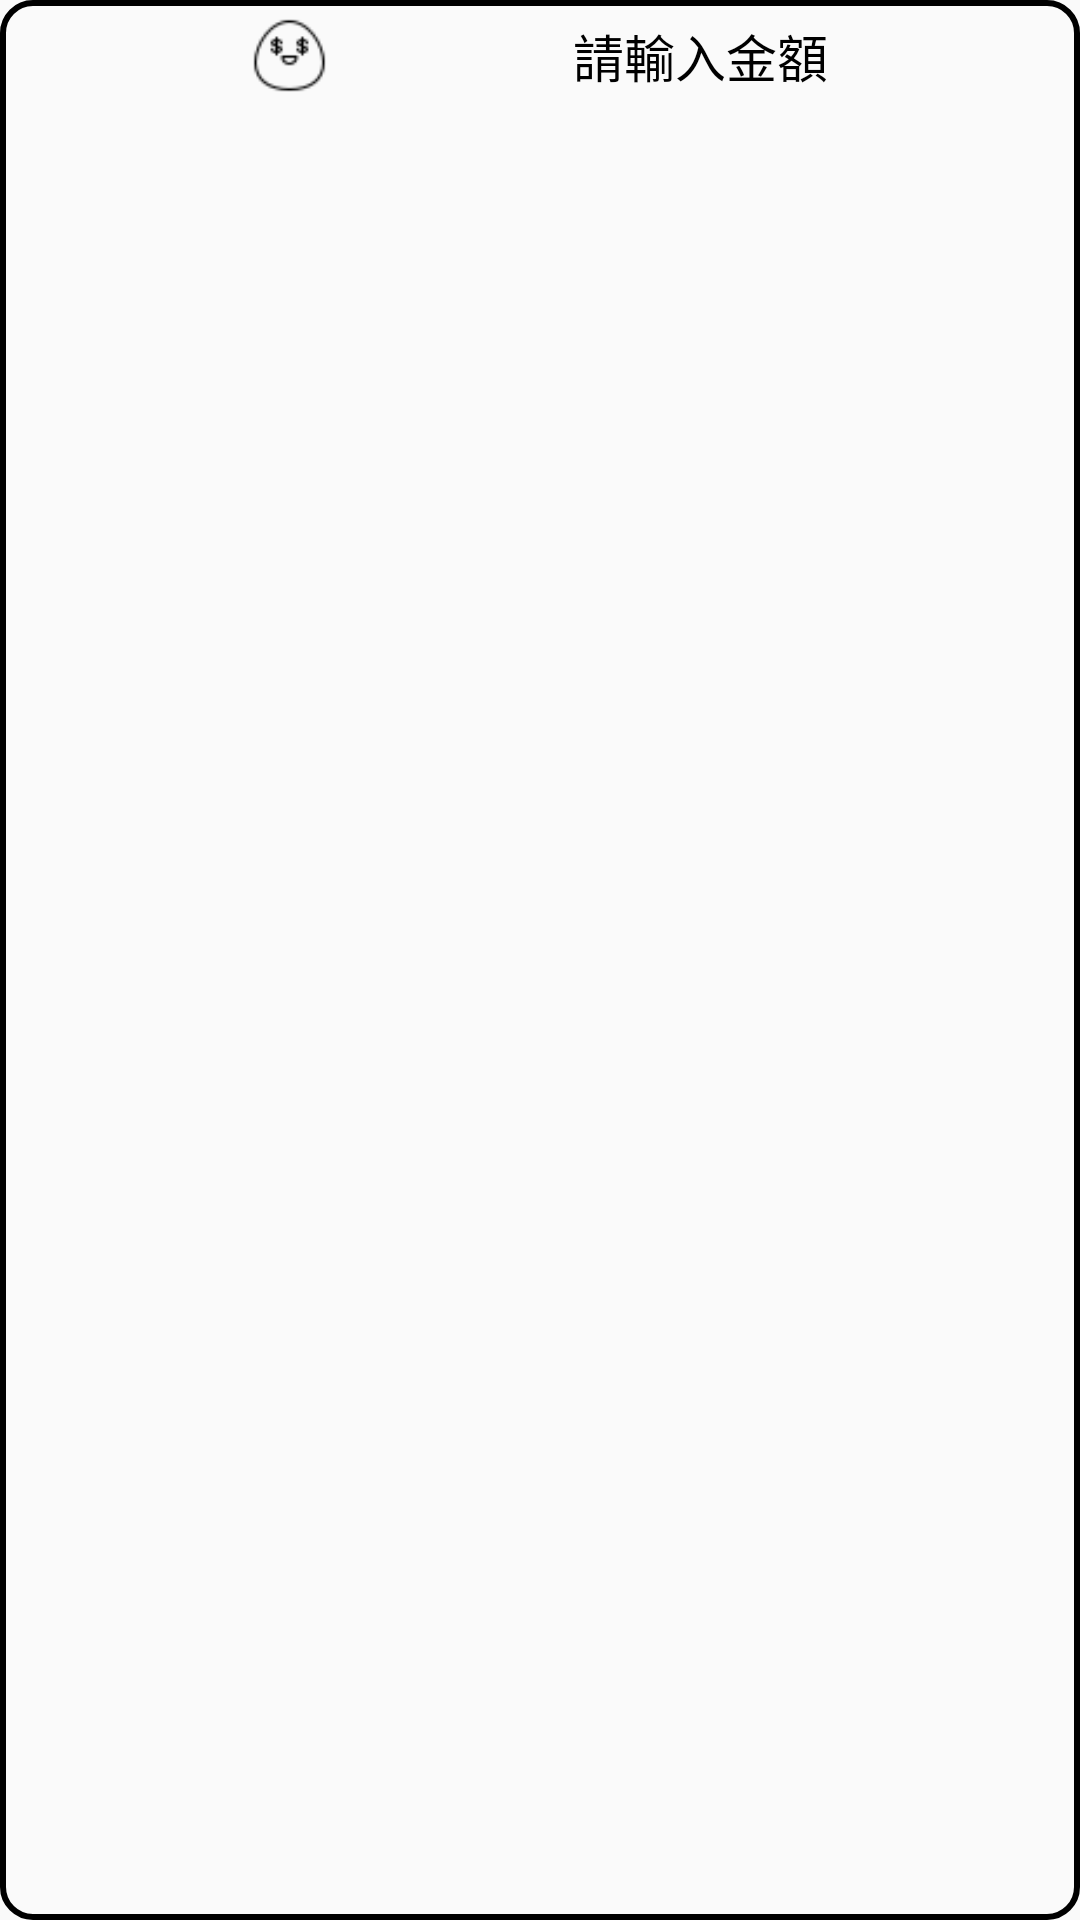

Named icons in this screenshot (1080px×1920px) and their centers, (x=x, y=y):
money: (x=289, y=55)
